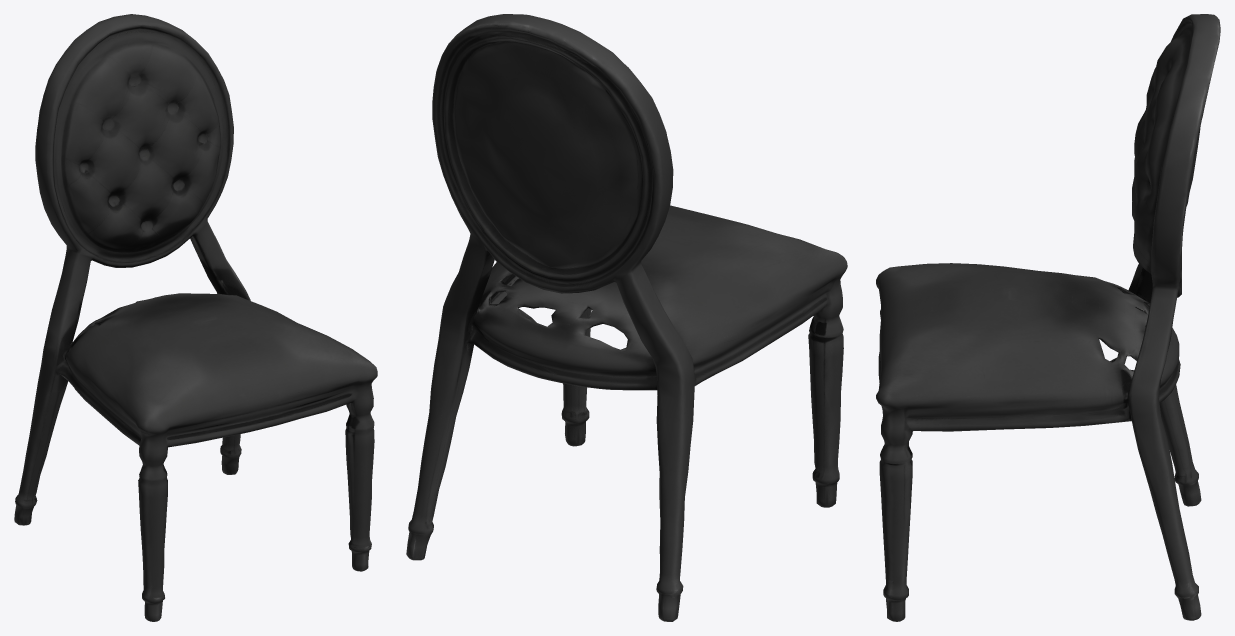
Rendered from Chair_Louis_XVI_Blac_0320031747_texture.glb.
3 views of the same model, side by side, from view 1: azimuth 30°, elevation 25°; view 2: azimuth 150°, elevation 25°; view 3: azimuth 270°, elevation 25° (orthographic). The views are drawn at different scales.
Parts seen in each view (by area): view 1: Mesh_0.001; view 2: Mesh_0.001; view 3: Mesh_0.001.
Part boxes in pixels (bbox=[...]): Mesh_0.001: bbox=[14, 14, 377, 621]; Mesh_0.001: bbox=[406, 14, 847, 621]; Mesh_0.001: bbox=[876, 14, 1220, 621].
Bounding box in the file's own units: 0.4788 × 0.9144 × 0.5314.
1 material, 1 textured.
